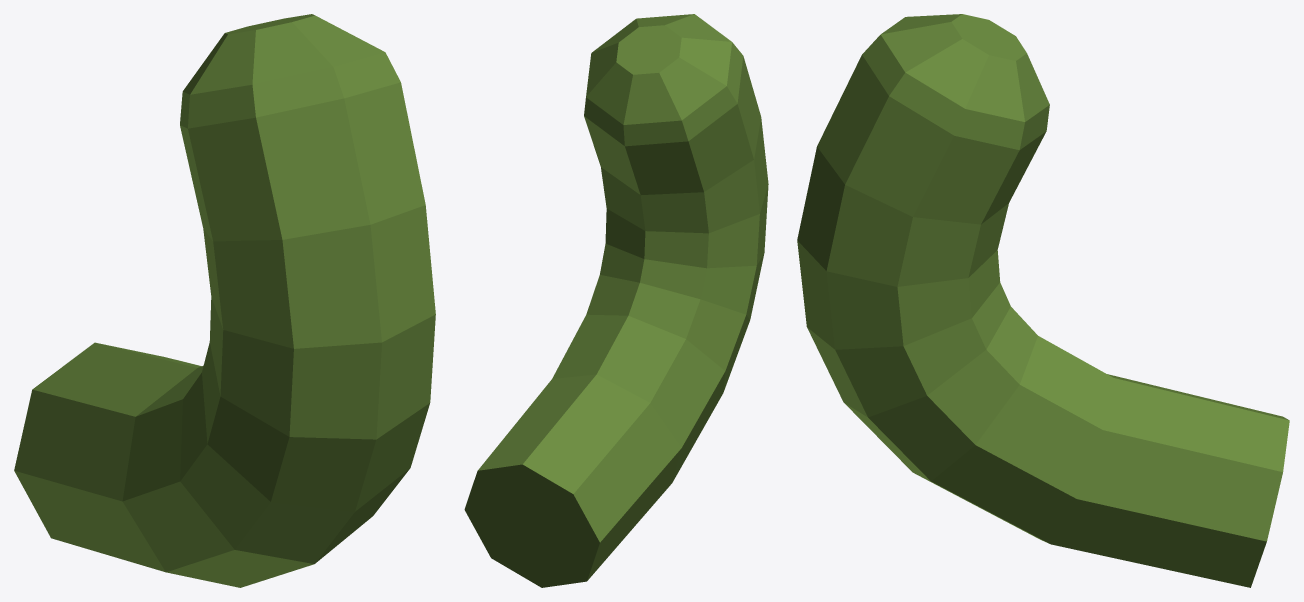
Rendered from cactus_anim.fbx.
3 renders of one model, left to right at view 1: azimuth 30°, elevation 25°; view 2: azimuth 150°, elevation 25°; view 3: azimuth 270°, elevation 25°, orthographic. The views are drawn at different scales.
Parts seen in each view (by area): view 1: right_1; view 2: right_1; view 3: right_1.
Boxes of the visible parts, x1,y1,x2,y2 form: right_1: [14, 14, 435, 587]; right_1: [464, 14, 768, 587]; right_1: [797, 14, 1289, 587].
Size of the model in its own units: 52.22 by 160 by 127.
